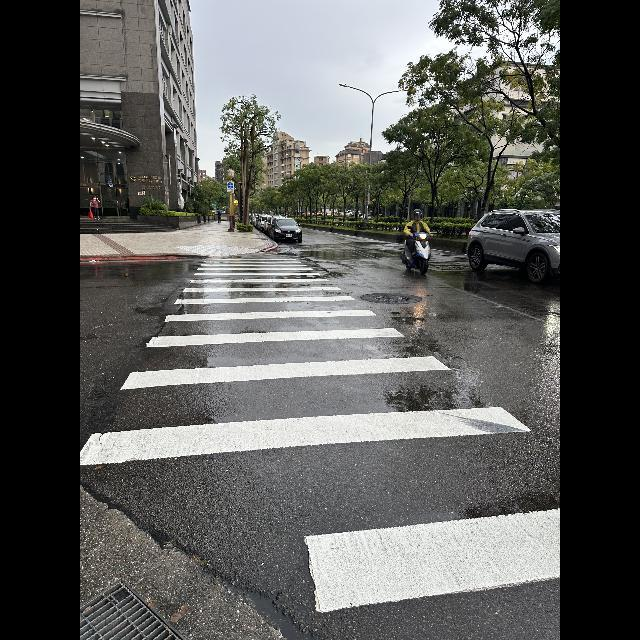sidewalk: (80, 254, 560, 613)
